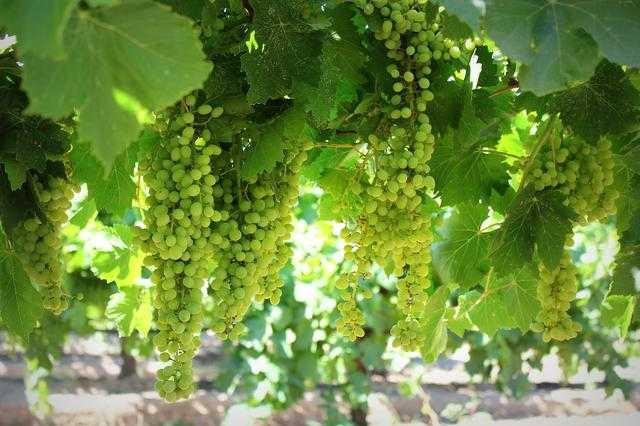Grape Unripe: (336, 8, 453, 326), (136, 73, 238, 267), (218, 120, 295, 332), (152, 190, 220, 388), (520, 111, 621, 232), (0, 158, 78, 308), (516, 222, 581, 335)
